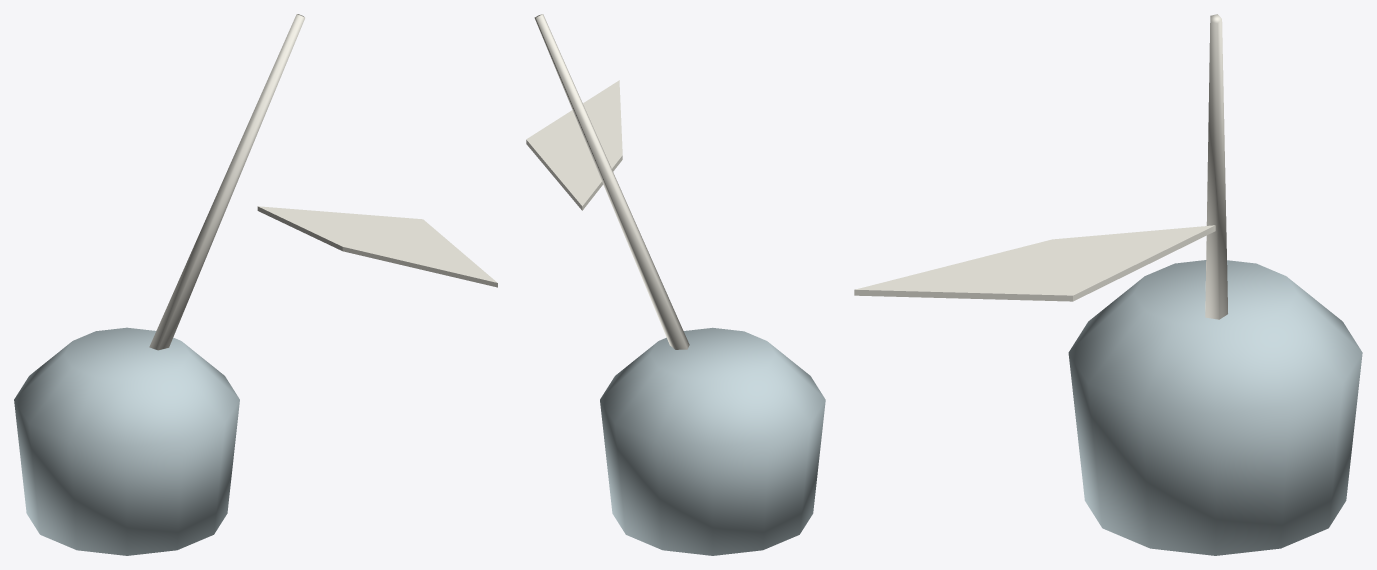
The model's file is writing_set_inkwell_quill.glb.
The picture shows the model from 3 angles, left to right: view 1: azimuth 30°, elevation 25°; view 2: azimuth 150°, elevation 25°; view 3: azimuth 270°, elevation 25°; orthographic projection. The views are drawn at different scales.
Parts seen in each view (by area): view 1: GD_writing_set_inkwell_quill__m0, GD_writing_set_inkwell_quill__m2; view 2: GD_writing_set_inkwell_quill__m0, GD_writing_set_inkwell_quill__m2; view 3: GD_writing_set_inkwell_quill__m0, GD_writing_set_inkwell_quill__m2.
Boxes of the visible parts, bbox=[...] form: GD_writing_set_inkwell_quill__m0: bbox=[14, 327, 239, 555]; GD_writing_set_inkwell_quill__m2: bbox=[149, 14, 497, 350]; GD_writing_set_inkwell_quill__m0: bbox=[600, 327, 825, 555]; GD_writing_set_inkwell_quill__m2: bbox=[526, 14, 689, 349]; GD_writing_set_inkwell_quill__m0: bbox=[1068, 260, 1362, 555]; GD_writing_set_inkwell_quill__m2: bbox=[854, 14, 1227, 319].
Size of the model in its own units: 0.156 by 0.2009 by 0.1555.
